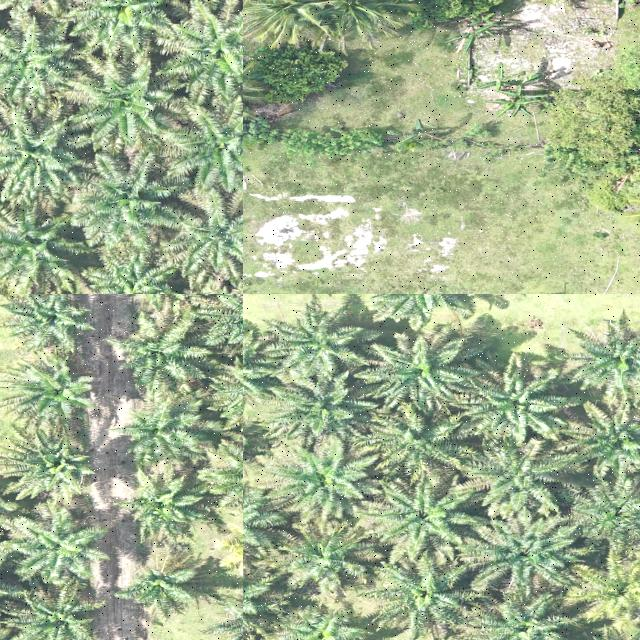Ganoderma: (582, 564, 640, 614), (226, 523, 243, 569)
